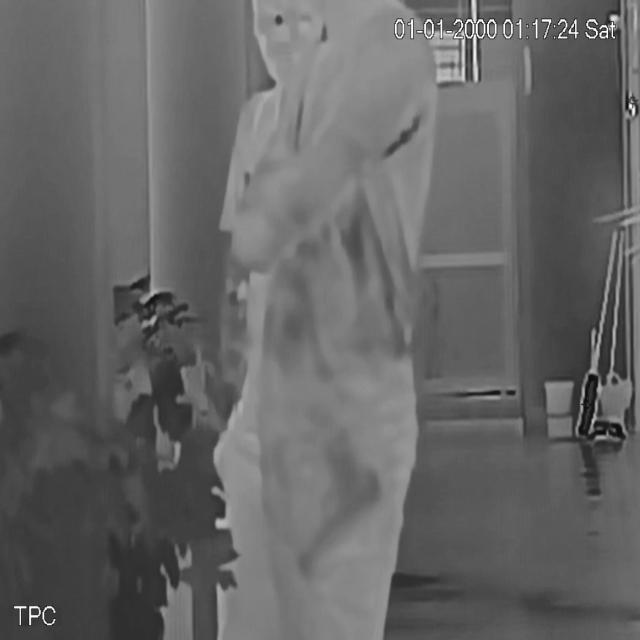Weapon: (268, 428, 388, 585)
